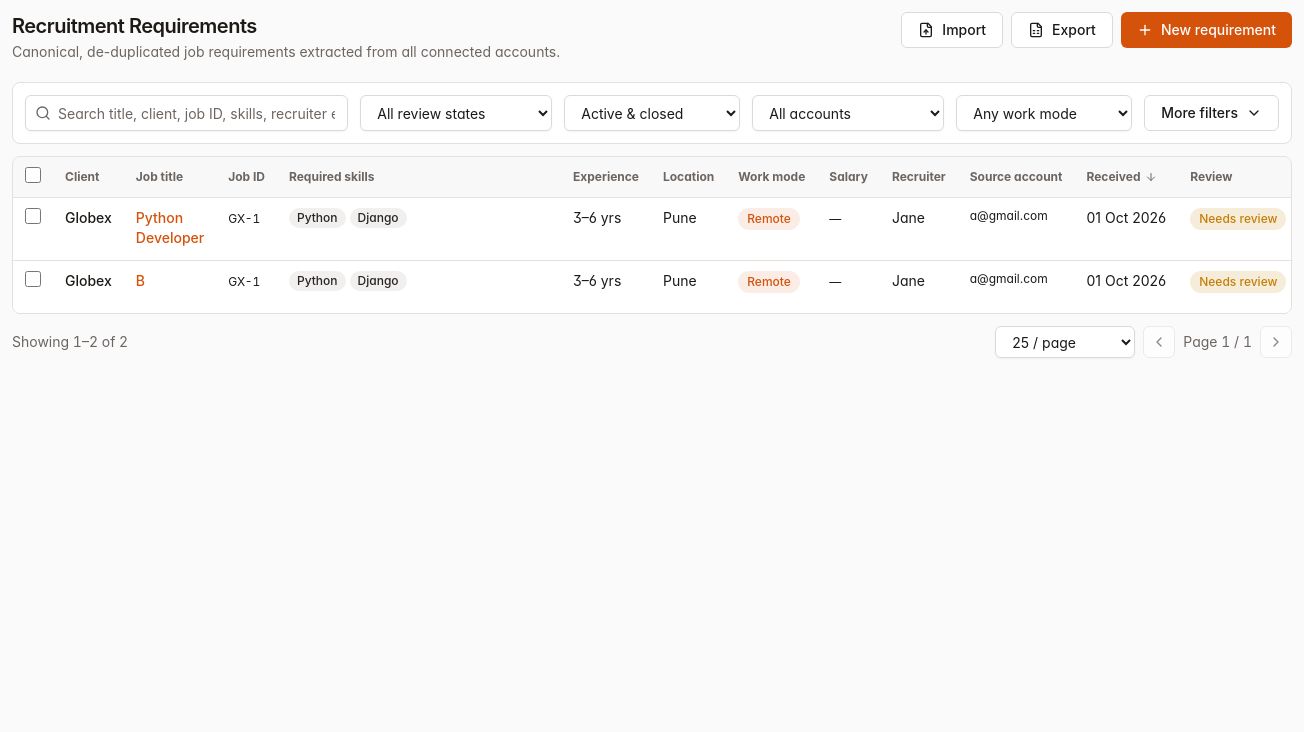
Test: requirements table › selecting rows reveals bulk actions and reports partial success
This screenshot has width=1304, height=732.
Check: the link "Python Developer" is shown, box [136,209,204,246]
Click the checkbox named "Select all rows on this page". click: (33, 175)
box: [25,167,41,183]
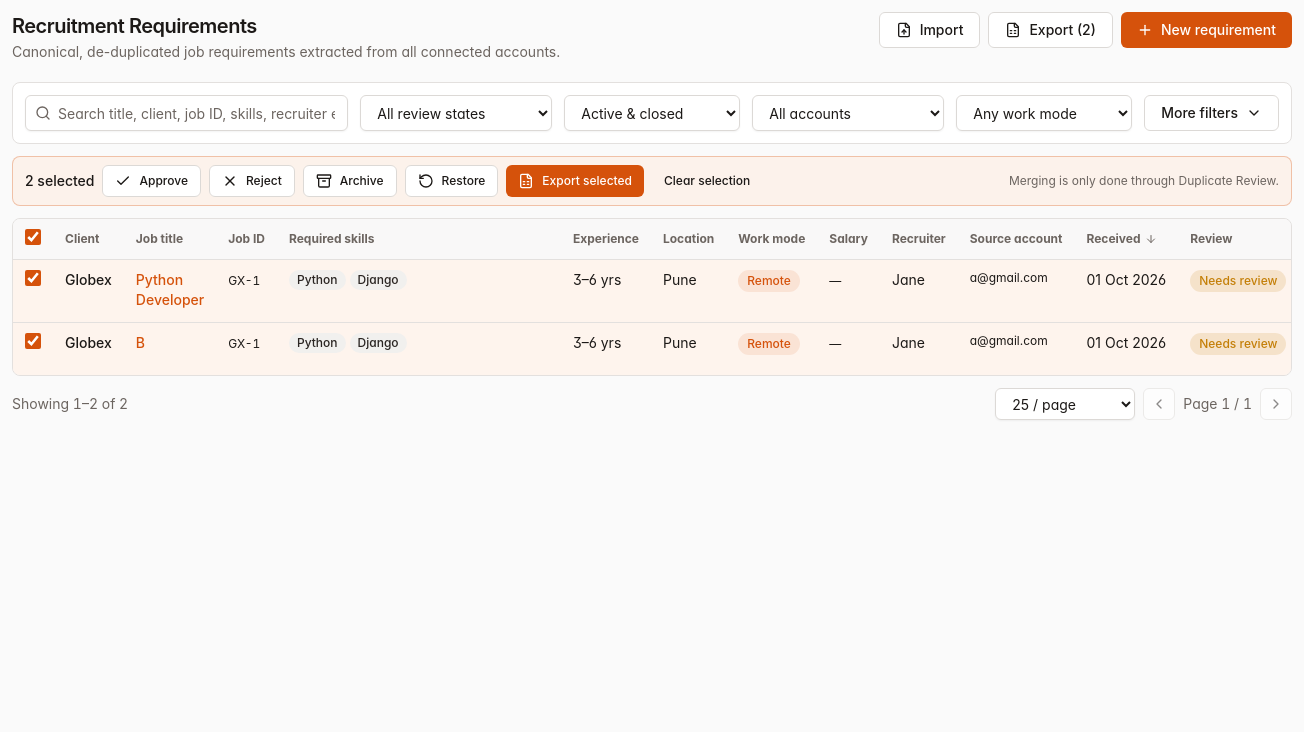
Check: the text "2 selected" is shown, box [25,171,94,191]
Click the button "Approve". click: (152, 181)
box: [102,165,201,197]
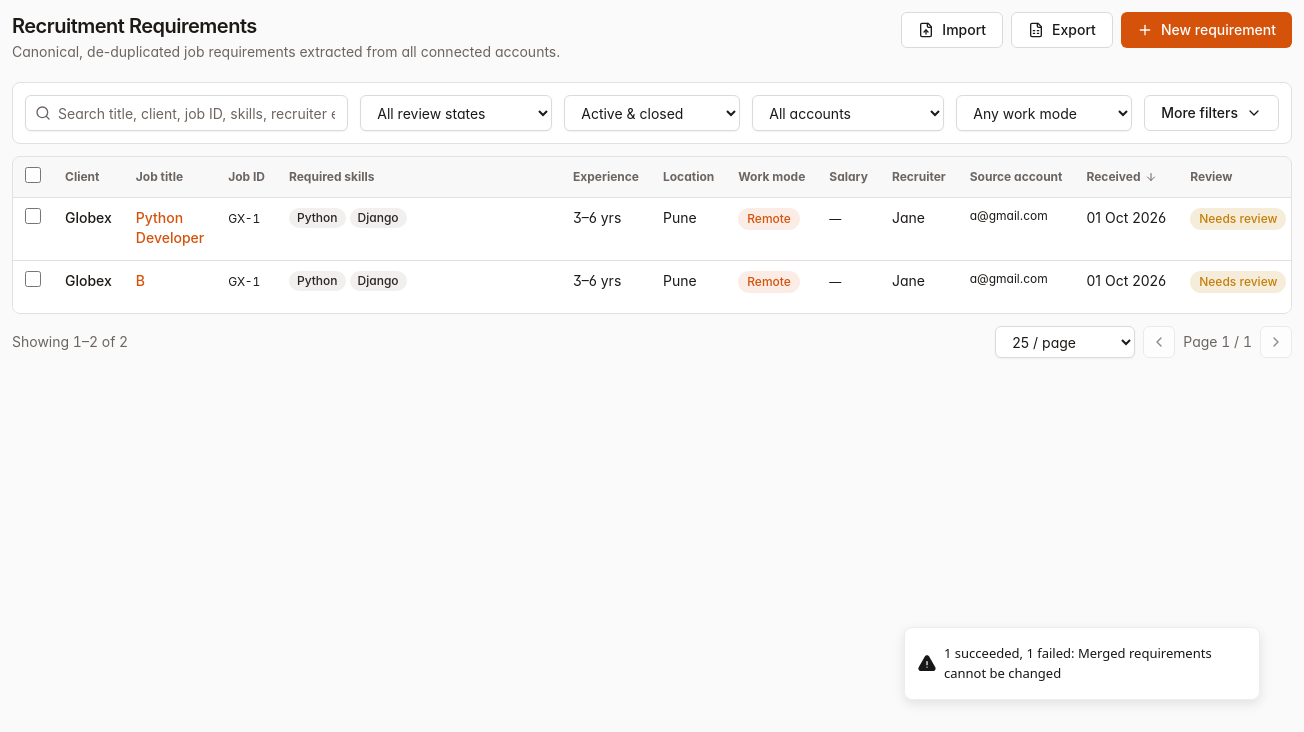
Check: the text "1 succeeded, 1 failed: Merged requirements cannot be changed" is shown, box [944,644,1243,683]
